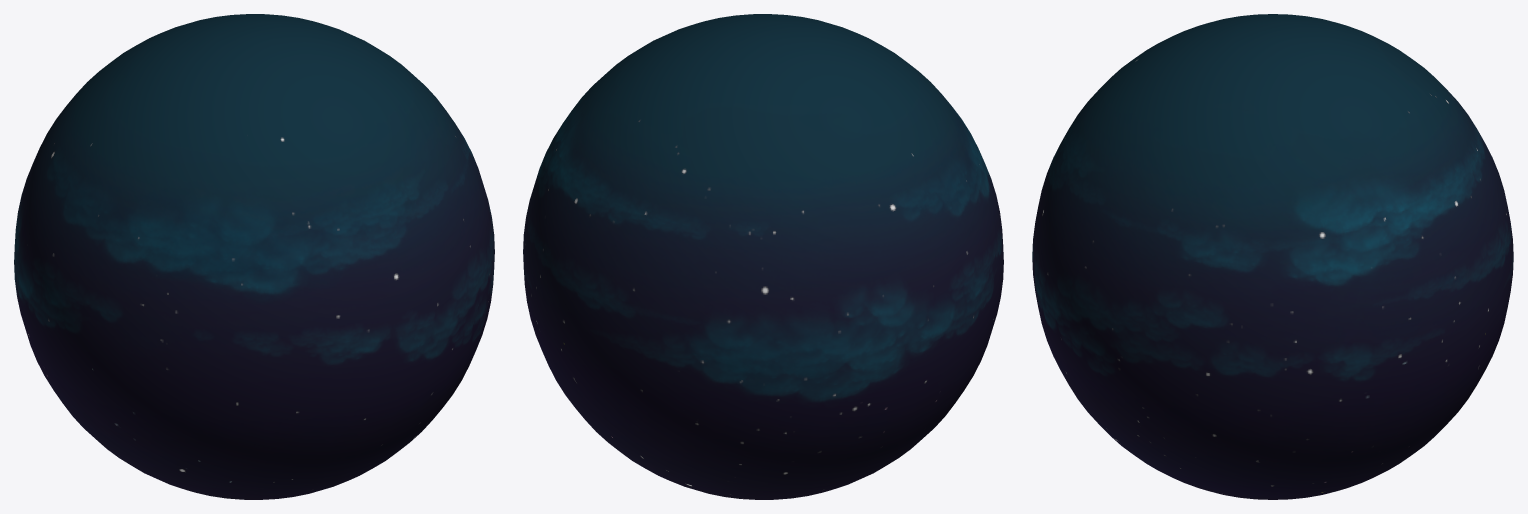
File: SM_Skybox.fbx
3 renders of one model, left to right at view 1: azimuth 30°, elevation 25°; view 2: azimuth 150°, elevation 25°; view 3: azimuth 270°, elevation 25°, orthographic.
Parts seen in each view (by area): view 1: skybox; view 2: skybox; view 3: skybox.
Part boxes in pixels (<box>): skybox: <box>14,14,494,499</box>; skybox: <box>523,14,1003,499</box>; skybox: <box>1032,14,1513,499</box>.
Size of the model in its own units: 272 by 276 by 272.
